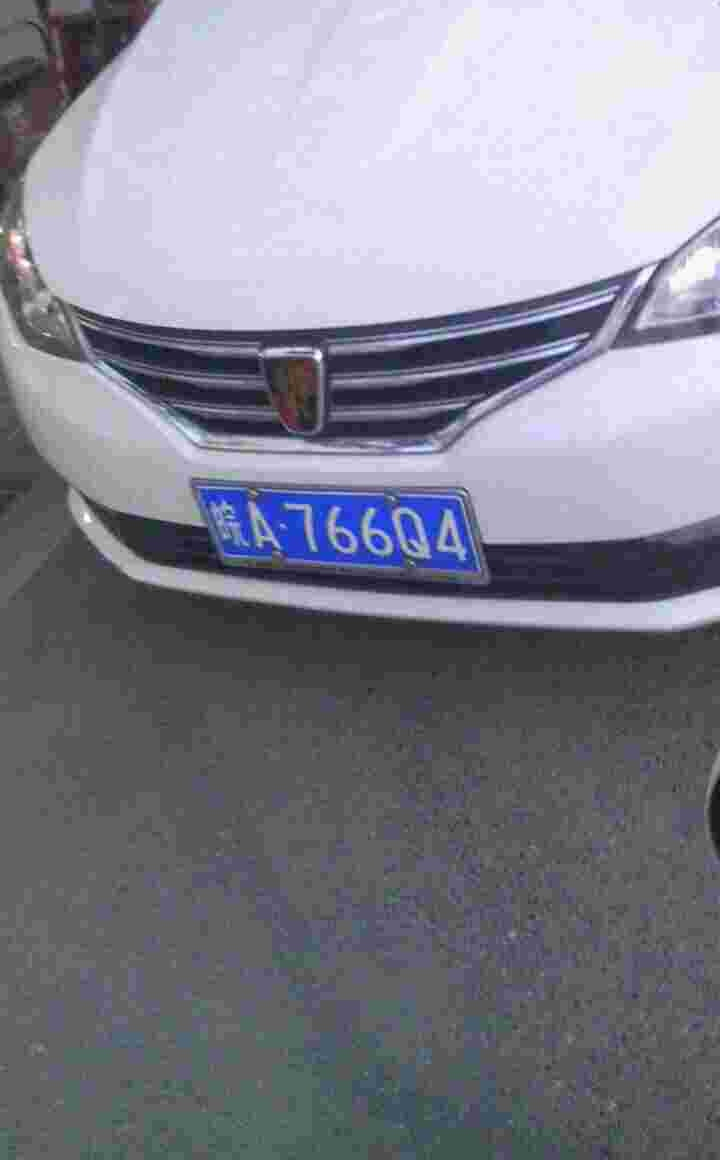plate: (189, 480, 492, 578)
